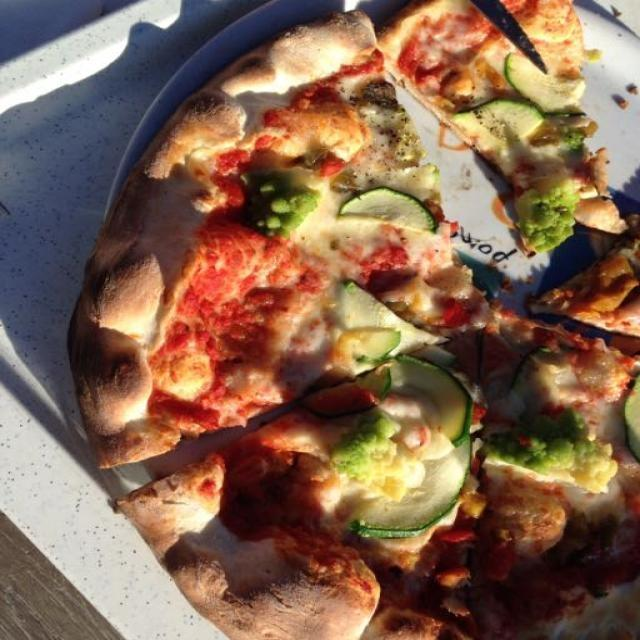pizza: (84, 11, 626, 599)
